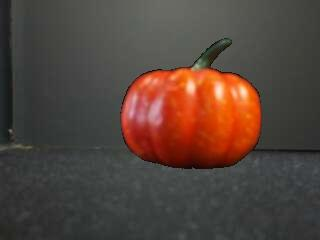Pumpkin: (119, 36, 262, 170)
